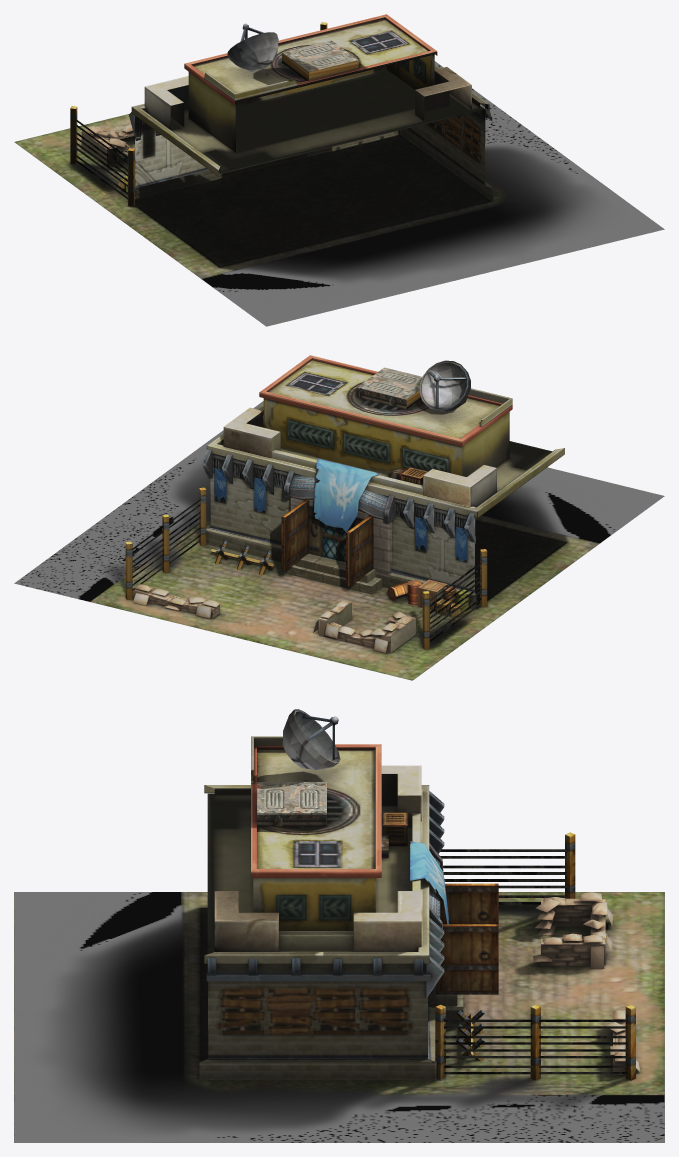
The model's file is zhanzhengdating.FBX.
The picture shows the model from 3 angles, top to bottom: view 1: azimuth 30°, elevation 25°; view 2: azimuth 150°, elevation 25°; view 3: azimuth 270°, elevation 25°; orthographic projection. The views are drawn at different scales.
Parts seen in each view (by area): view 1: zhanzhengdating (×2), leida; view 2: zhanzhengdating (×2), leida; view 3: zhanzhengdating (×2), leida.
Boxes of the visible parts, box(x1,y1,x2,y2) form: zhanzhengdating (×2): box(14, 14, 664, 326); leida: box(227, 23, 278, 71); zhanzhengdating (×2): box(14, 355, 664, 680); leida: box(419, 360, 470, 412); zhanzhengdating (×2): box(14, 736, 664, 1142); leida: box(282, 709, 340, 769).
Size of the model in its own units: 185 by 84.66 by 203.
